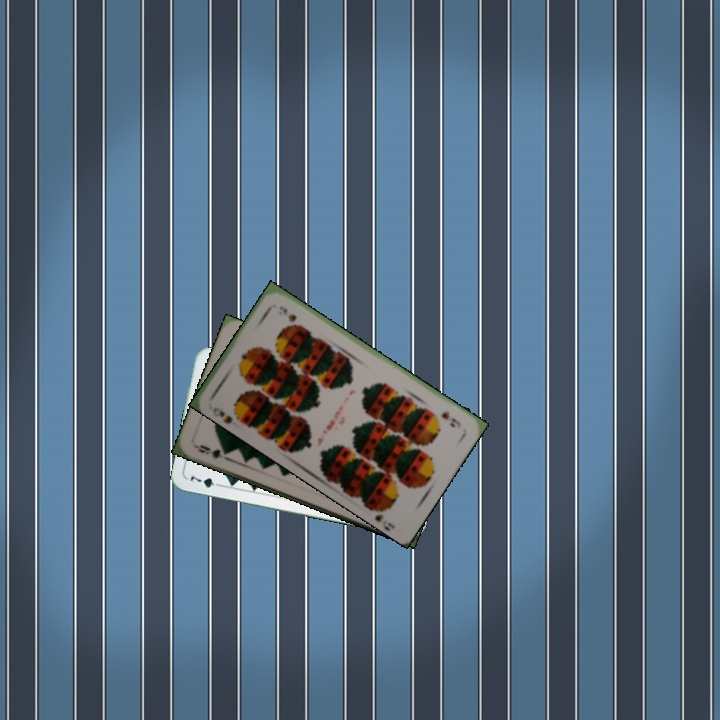G7: (186, 471, 225, 490)
G9: (190, 441, 231, 462)
S9: (208, 403, 246, 425), (437, 407, 463, 431)
